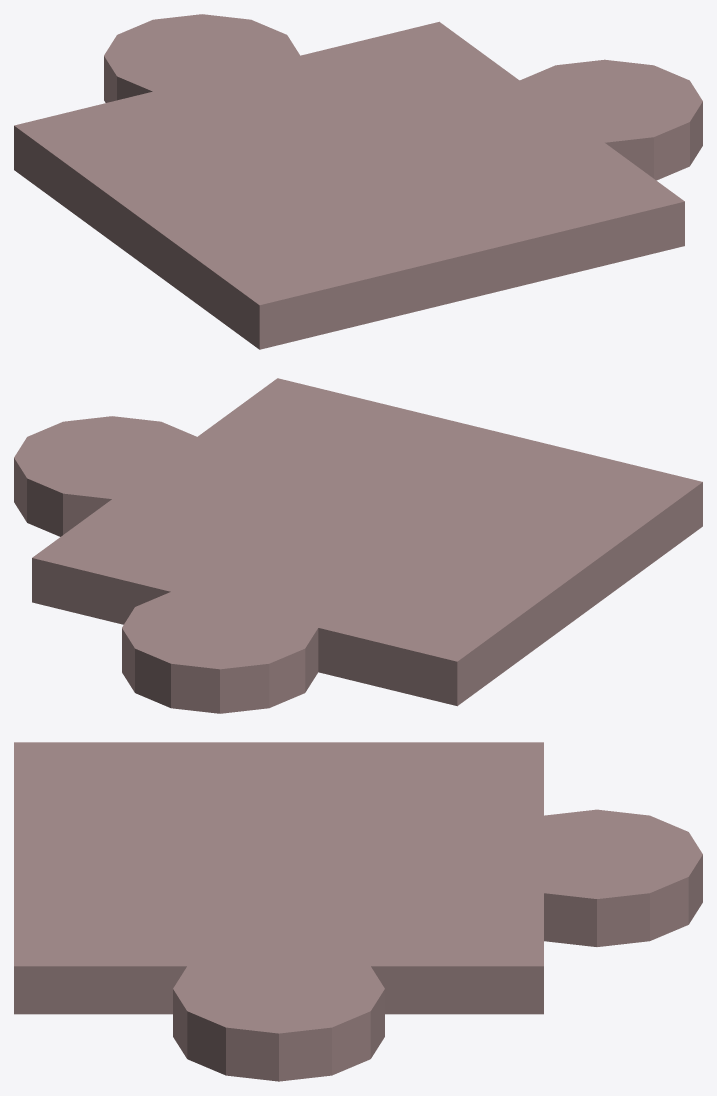
Rendered from Puzzle_09_MOD.fbx.
3 views of the same model, one above another, from view 1: azimuth 30°, elevation 25°; view 2: azimuth 150°, elevation 25°; view 3: azimuth 270°, elevation 25° (orthographic). The views are drawn at different scales.
Parts seen in each view (by area): view 1: polySurface44; view 2: polySurface44; view 3: polySurface44.
Boxes of the visible parts, left/top/right/bottom form: polySurface44: left=14, top=14, right=702, bottom=349; polySurface44: left=14, top=378, right=702, bottom=713; polySurface44: left=14, top=742, right=702, bottom=1081.
Size of the model in its own units: 6.5 by 0.5 by 6.5.
